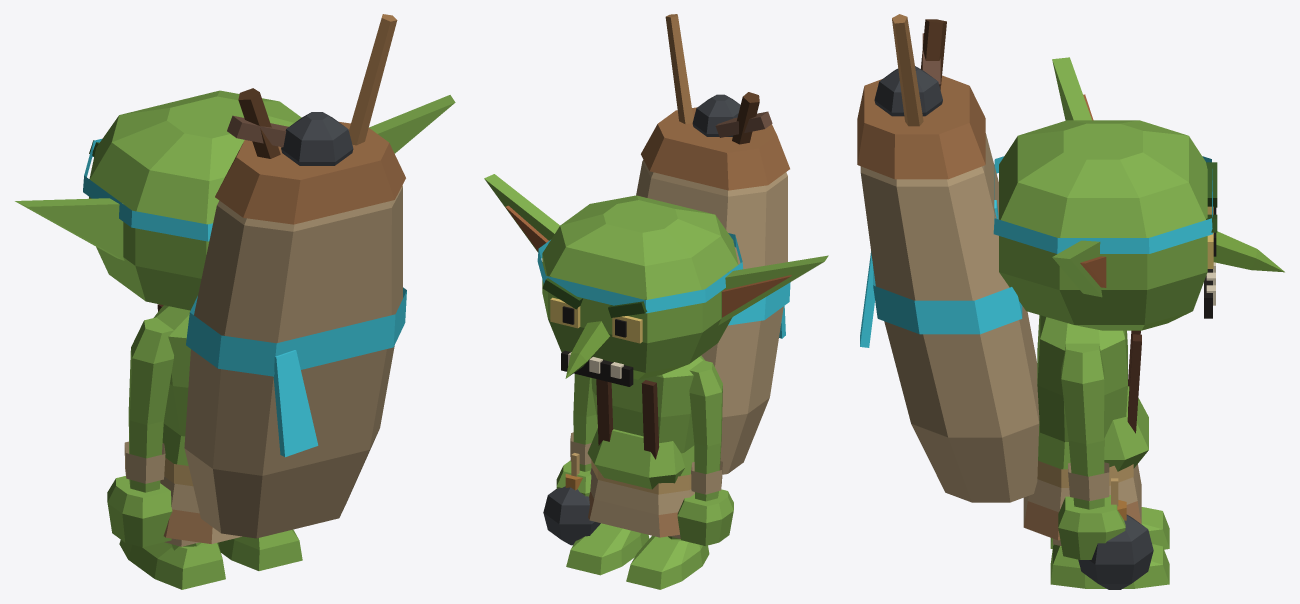
File: CH_PitGoblin.fbx
The picture shows the model from 3 angles, left to right: view 1: azimuth 30°, elevation 25°; view 2: azimuth 150°, elevation 25°; view 3: azimuth 270°, elevation 25°; orthographic projection. The views are drawn at different scales.
Visible parts, largest first — view 1: Body, Head, ArmL, LegL, LegR; view 2: Body, Head, ArmL, ArmR, LegL, LegR; view 3: Body, Head, ArmR, LegR, LegL.
Part boxes in pixels (left/top/right/bottom): Body: left=153, top=14, right=406, bottom=543; Head: left=15, top=90, right=455, bottom=310; ArmL: left=107, top=317, right=173, bottom=547; LegL: left=119, top=538, right=225, bottom=589; LegR: left=218, top=529, right=302, bottom=570; Body: left=587, top=14, right=790, bottom=537; Head: left=484, top=174, right=828, bottom=386; ArmL: left=677, top=360, right=733, bottom=545; ArmR: left=543, top=374, right=600, bottom=545; LegL: left=626, top=535, right=709, bottom=589; LegR: left=566, top=523, right=649, bottom=575; Body: left=857, top=14, right=1148, bottom=540; Head: left=993, top=57, right=1284, bottom=330; ArmR: left=1058, top=343, right=1153, bottom=589; LegR: left=1050, top=538, right=1169, bottom=588; LegL: left=1050, top=507, right=1169, bottom=549.
Size of the model in its own units: 1.04 by 0.9349 by 1.37.
